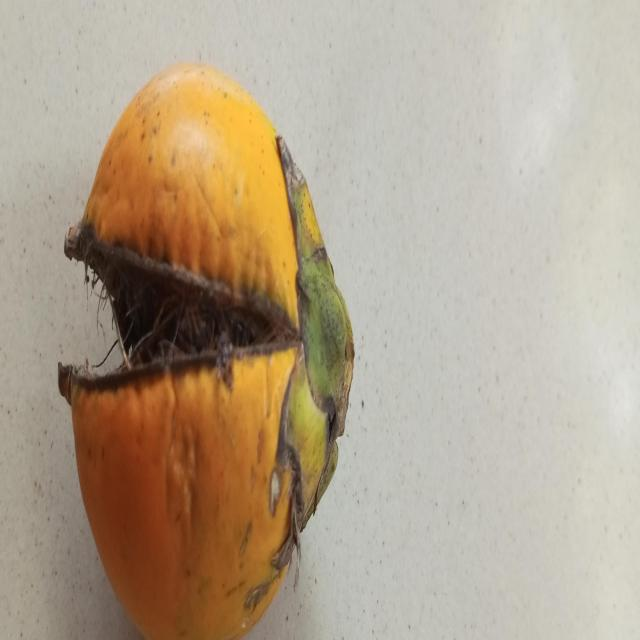damaged: (58, 63, 355, 640)
